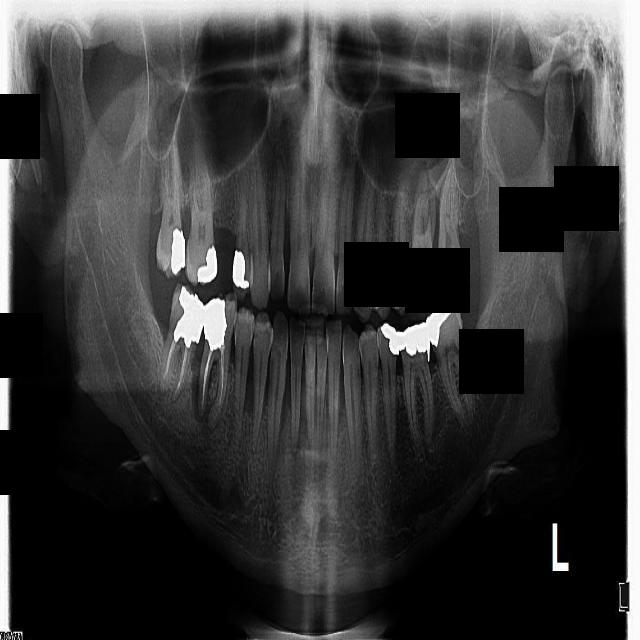74: (173, 343, 192, 402), (198, 347, 214, 410), (160, 338, 177, 381), (219, 343, 225, 404)
NucleOSS Implant: (172, 284, 209, 350), (191, 244, 227, 289), (418, 300, 453, 346), (397, 323, 433, 363), (203, 299, 228, 351), (379, 321, 407, 360), (227, 249, 250, 289), (169, 226, 187, 275)
Sterngold Implant: (254, 328, 259, 345)
